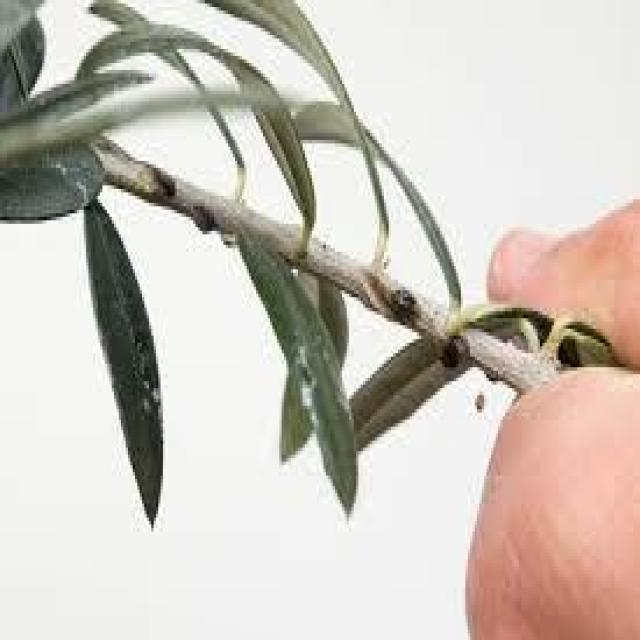BlackScale: (389, 288, 417, 321), (440, 339, 454, 370)
Psyllid: (240, 235, 356, 464)
